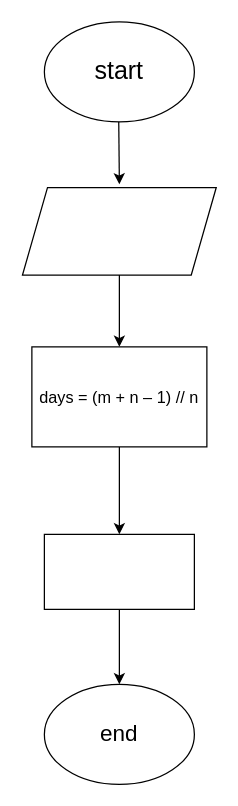
Some shapes in this 238 by 806 pixel diagram are drawn without their labels. The shapes that lost their labels are listed below. From the top down, each one's box as (x1, y1, x2, y2) in pixels, then its label:
(21, 186, 216, 275): input n, m
(43, 533, 194, 609): print(days)
